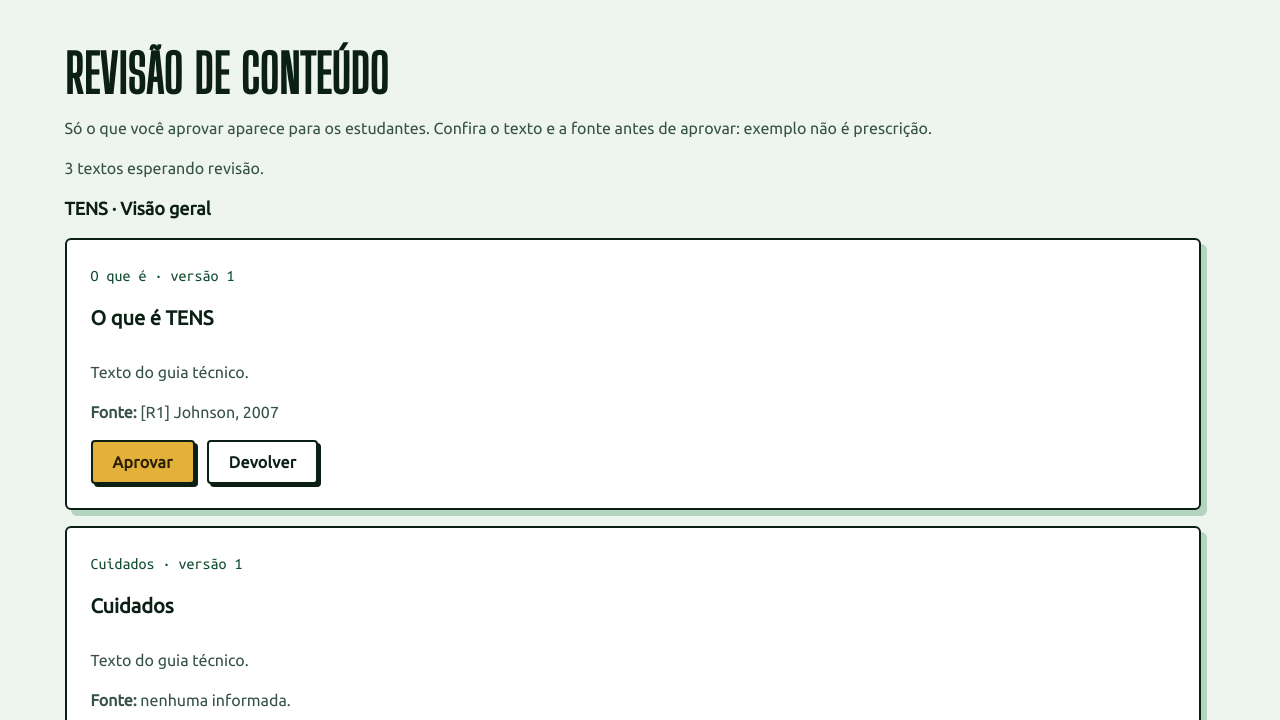
Test case: deveAtualizarAFilaQuandoOutraPessoaJaAprovou
Click the button with aria-label "Aprovar O que é TENS" at coordinates (143, 462), box [90,440,195,484]
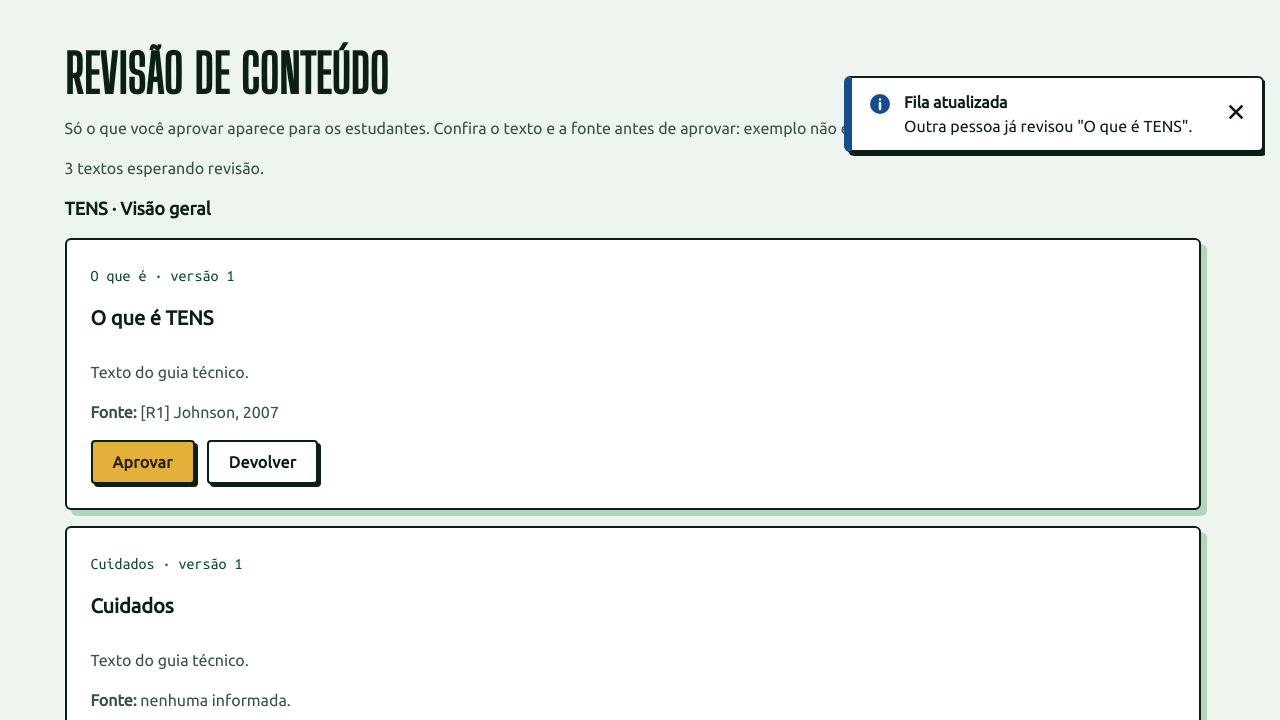
Check: the text "Fila atualizada" is shown, box [904,93,1008,111]
Check: the text "Outra pessoa já revisou \"O que é TENS\"." is shown, box [904,114,1202,138]
